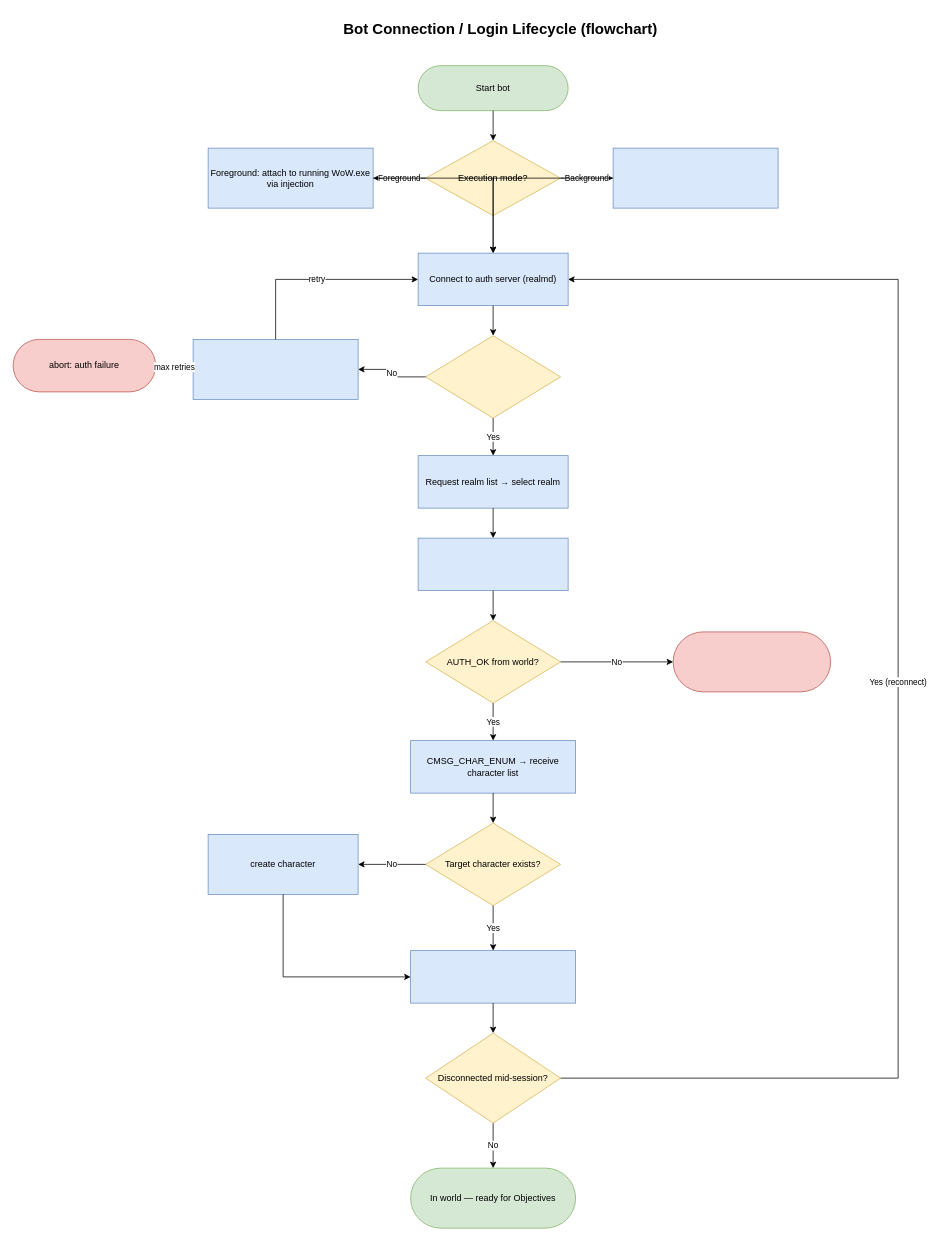
Image size: 940x1241. Some labels were removed from this diagram. The box of each missing label's shape, as (x1, y1, x2, y2) in pixels:
abort: world auth failed: (672, 631, 831, 692)
Auth (SRP6) succeeded?: (425, 335, 561, 418)
Background: headless WoWSharpClient: (612, 147, 778, 208)
CMSG_PLAYER_LOGIN → enter world: (410, 950, 576, 1003)
Connect to world server (MaNGOS): (417, 537, 568, 591)
wait + exponential backoff (retry up to N): (192, 339, 358, 399)
